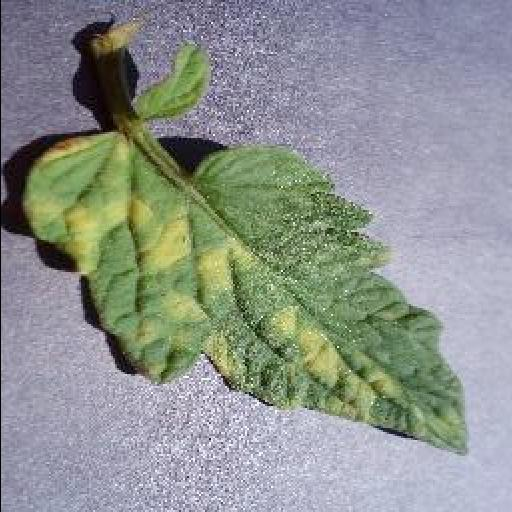disease_tomato: (20, 124, 470, 458)
